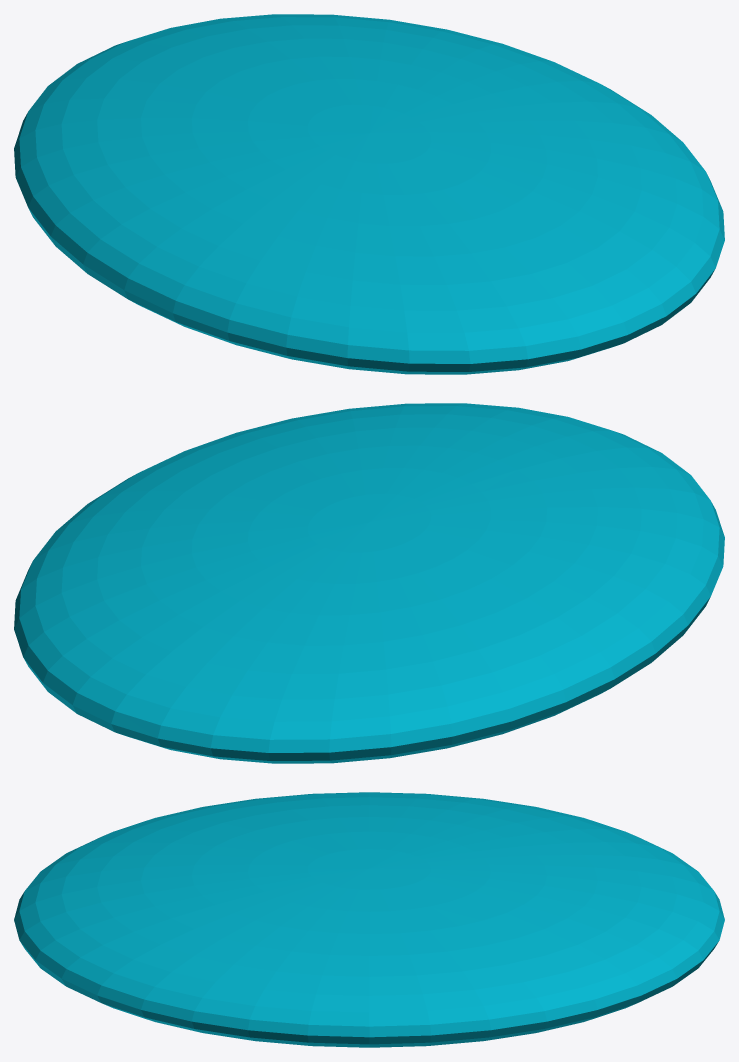
Rendered from Cytoplasm.glb.
3 renders of one model, top to bottom at view 1: azimuth 30°, elevation 25°; view 2: azimuth 150°, elevation 25°; view 3: azimuth 270°, elevation 25°, orthographic. The views are drawn at different scales.
Parts seen in each view (by area): view 1: Mesh_Mesh_head_geo.001_lambert2SG.001; view 2: Mesh_Mesh_head_geo.001_lambert2SG.001; view 3: Mesh_Mesh_head_geo.001_lambert2SG.001.
Part boxes in pixels (x1,y1,x2,y2): Mesh_Mesh_head_geo.001_lambert2SG.001: (14,14,724,374); Mesh_Mesh_head_geo.001_lambert2SG.001: (14,403,724,763); Mesh_Mesh_head_geo.001_lambert2SG.001: (14,792,724,1047).
Bounding box in the file's own units: 98 × 20 × 126.
